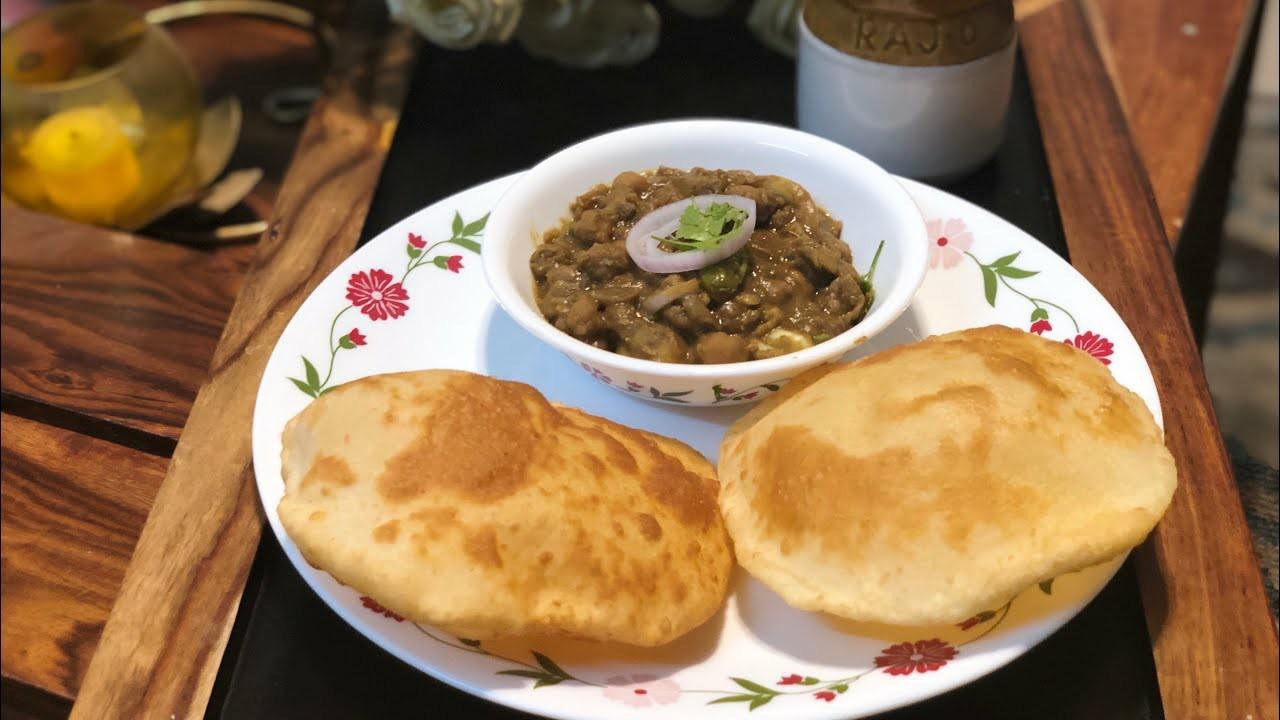Bhatura: (714, 322, 1178, 622), (278, 366, 735, 654)
Chole: (536, 163, 867, 362)
